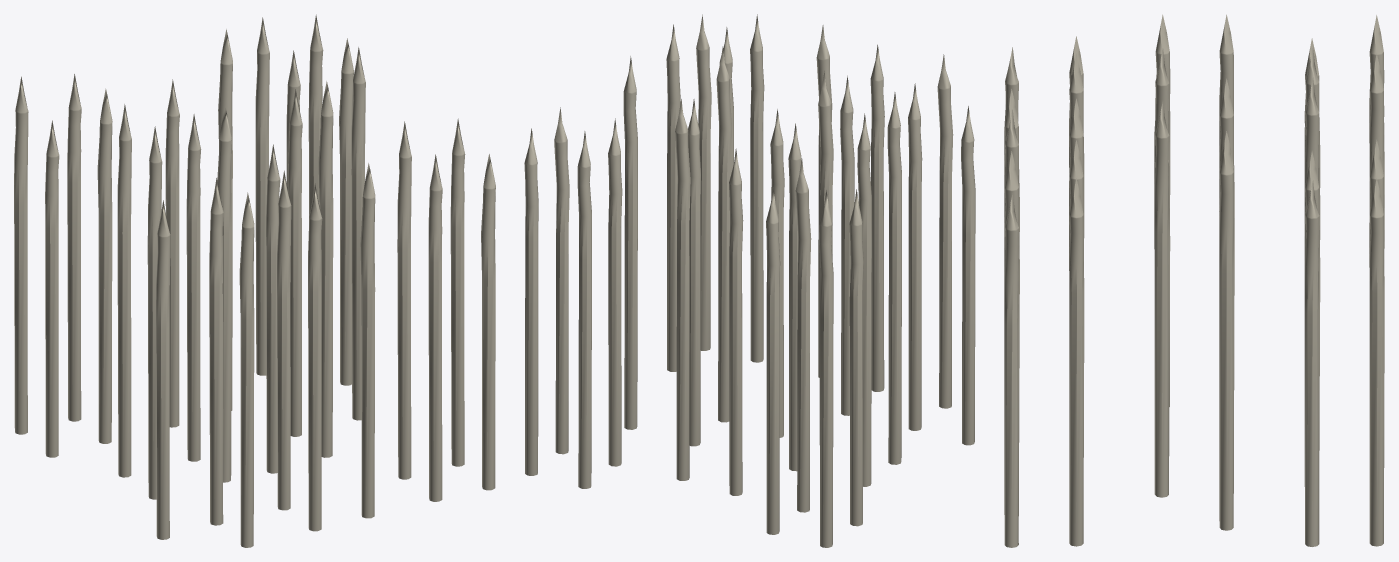
The model's file is spiketrap_spikes.fbx.
3 renders of one model, left to right at view 1: azimuth 30°, elevation 25°; view 2: azimuth 150°, elevation 25°; view 3: azimuth 270°, elevation 25°, orthographic. The views are drawn at different scales.
Parts seen in each view (by area): view 1: polySurface119; view 2: polySurface119; view 3: polySurface119.
Part boxes in pixels (box(x1,y1,x2,y2)): polySurface119: box(14, 14, 495, 547); polySurface119: box(524, 14, 975, 547); polySurface119: box(1004, 14, 1384, 547).
Bounding box in the file's own units: 161 × 192 × 163.
